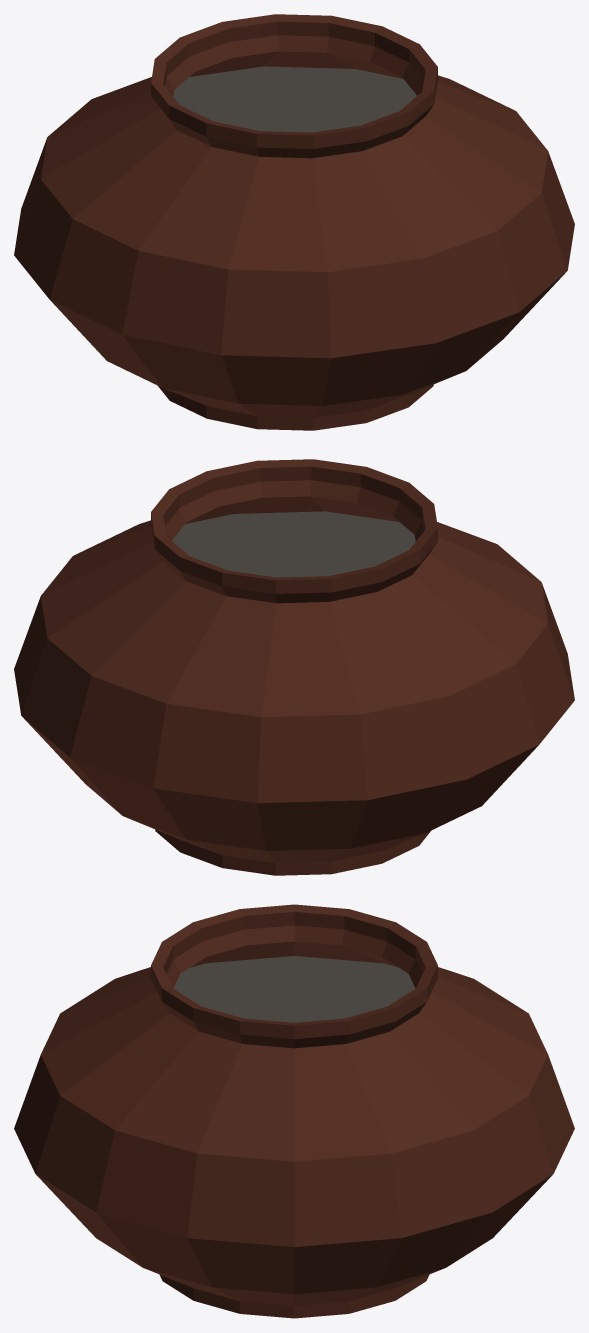
Rendered from SmallPot_Incense_v003(UV_Unwrapped).fbx.
3 renders of one model, top to bottom at view 1: azimuth 30°, elevation 25°; view 2: azimuth 150°, elevation 25°; view 3: azimuth 270°, elevation 25°, orthographic.
Parts seen in each view (by area): view 1: pot; view 2: pot; view 3: pot.
Part boxes in pixels (left/top/right/bottom): pot: left=14, top=14, right=574, bottom=430; pot: left=14, top=459, right=574, bottom=875; pot: left=14, top=904, right=574, bottom=1318.
Bounding box in the file's own units: 185 × 107 × 185.
